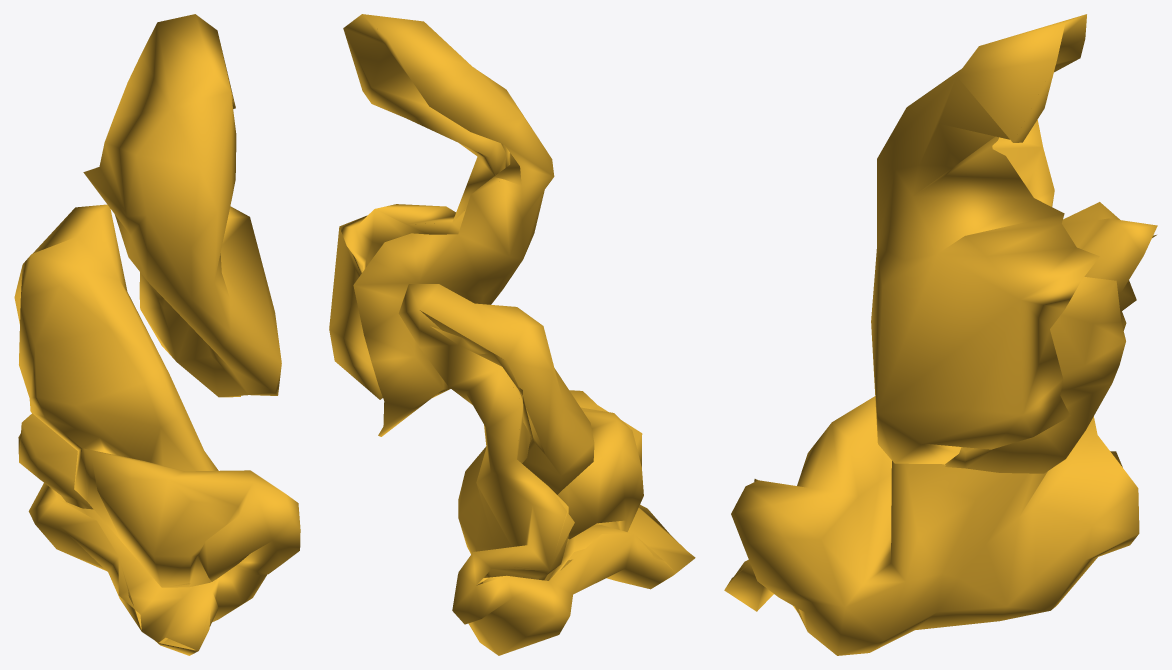
File: nervoso-parieto-occipital-sulcus-l.glb
3 renders of one model, left to right at view 1: azimuth 30°, elevation 25°; view 2: azimuth 150°, elevation 25°; view 3: azimuth 270°, elevation 25°, orthographic. The views are drawn at different scales.
Visible parts, largest first — view 1: Parieto-occipital sulcus.l; view 2: Parieto-occipital sulcus.l; view 3: Parieto-occipital sulcus.l.
Part boxes in pixels (<box>): Parieto-occipital sulcus.l: <box>14,14,300,655</box>; Parieto-occipital sulcus.l: <box>329,14,695,655</box>; Parieto-occipital sulcus.l: <box>724,14,1157,655</box>.
Size of the model in its own units: 0.0225 by 0.0507 by 0.0299.
